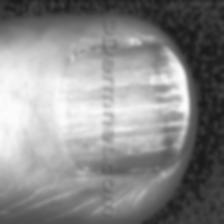Toxin: (116, 42, 190, 168)
